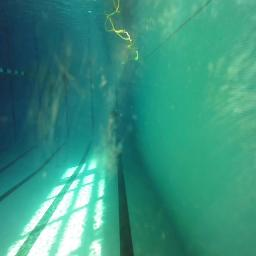Full: (109, 109, 119, 118)
